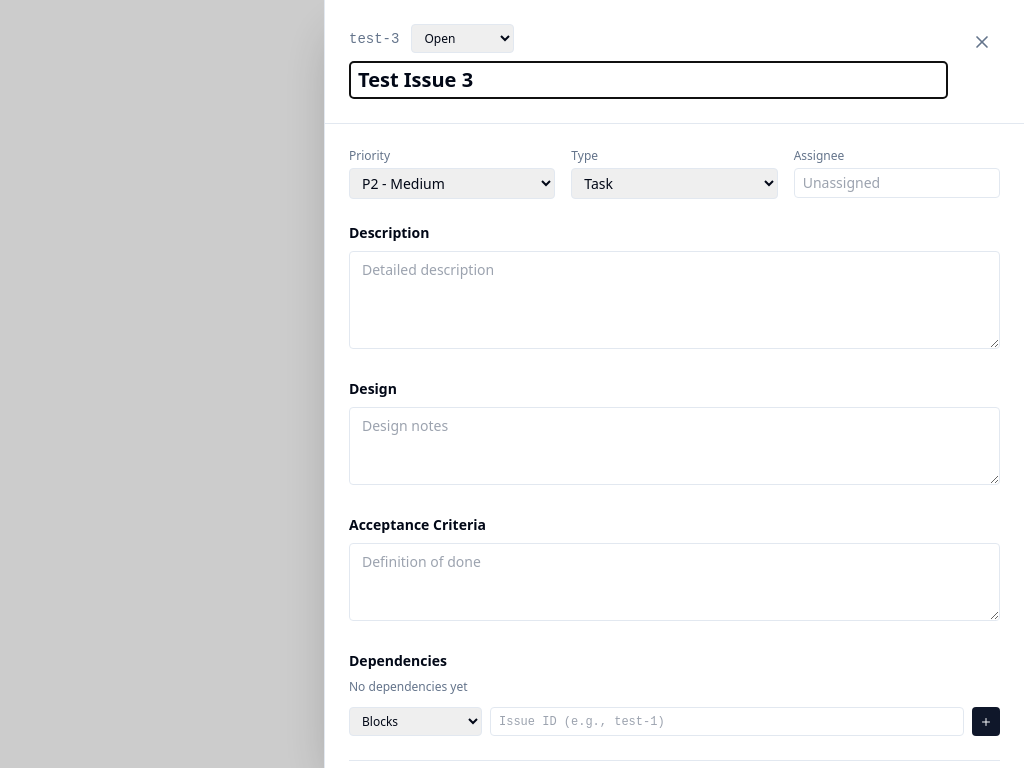
it: IssueSidePanel - Dependency Management › should support Enter key to add dependency
The image size is (1024, 768).
# Add a new dependency using Enter key
Type "test-1" into the field with placeholder "Issue ID (e.g., test-1)" at (727, 722), box 490,707 -> 964,736
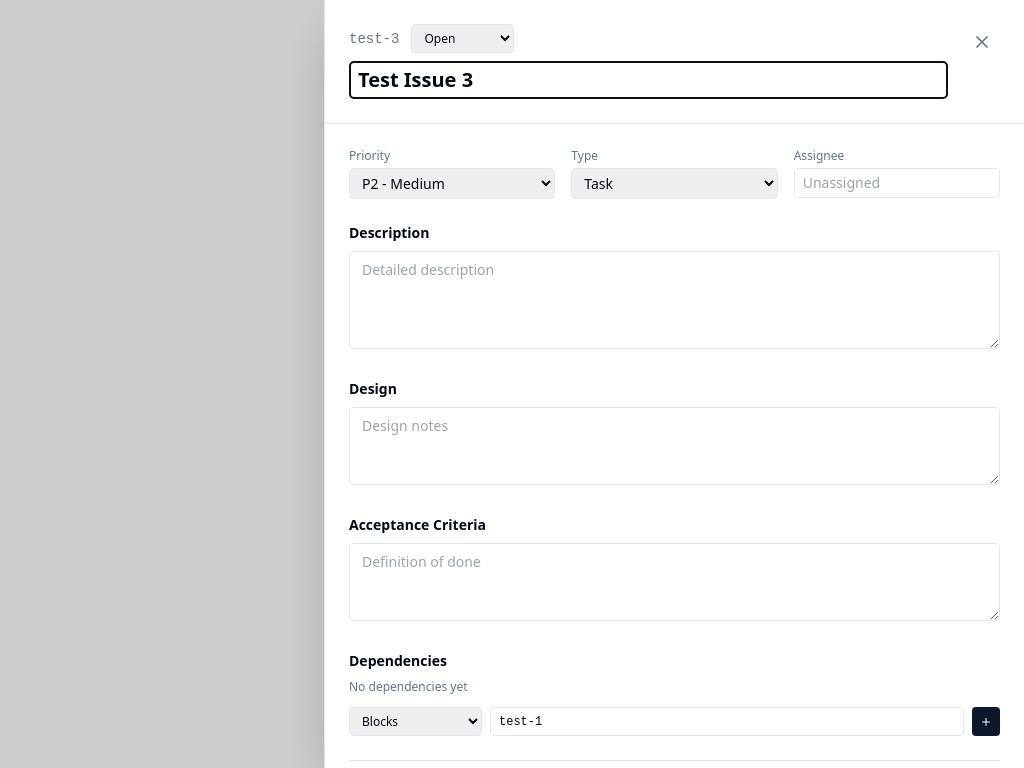
Press Enter in the field with placeholder "Issue ID (e.g., test-1)" below "No dependencies yet", box 490,707 -> 964,736
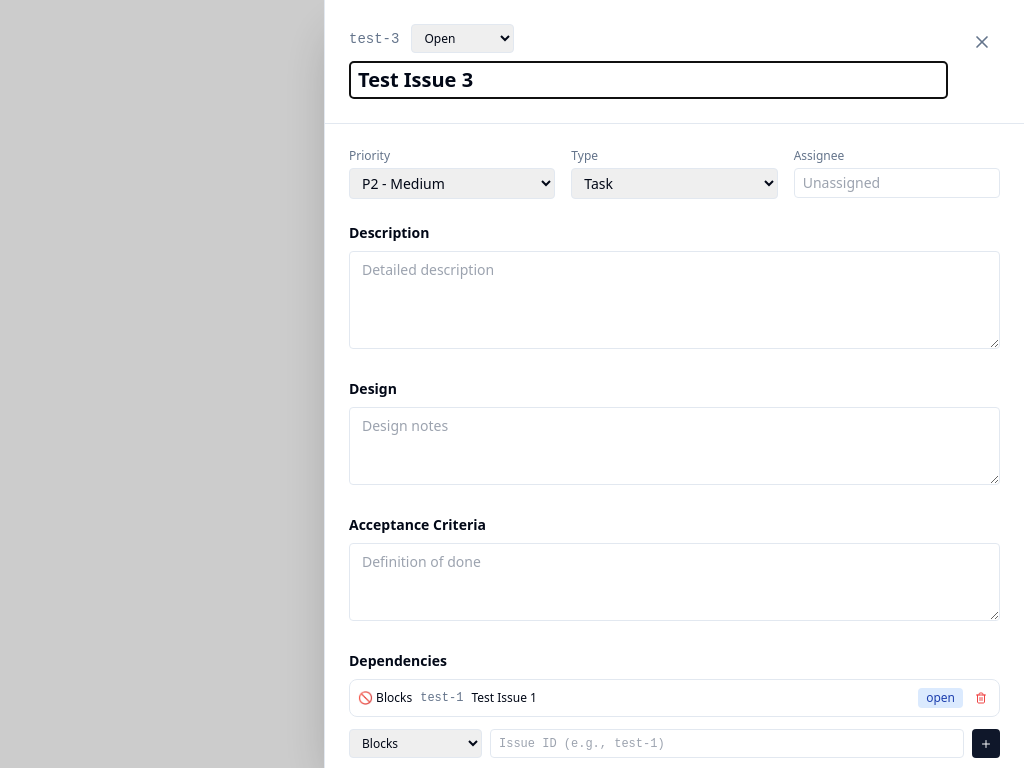
Result: the text "test-1" is shown at 420,690 -> 463,706
